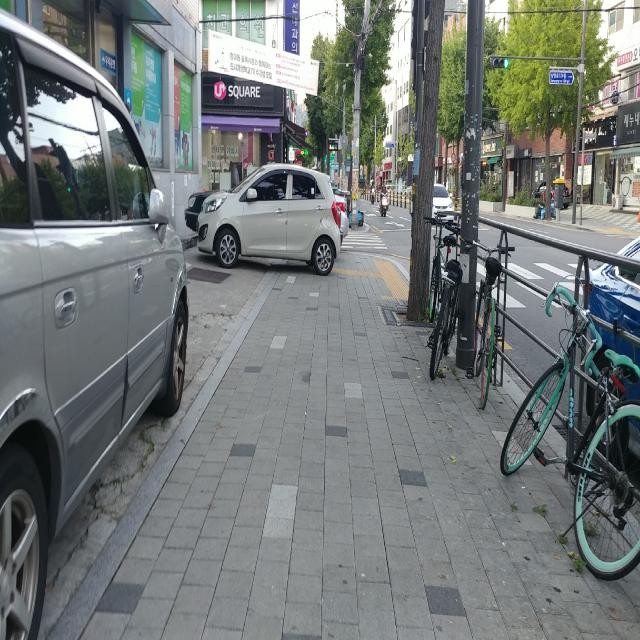횡단보도: (516, 259, 566, 281), (340, 233, 388, 249)
